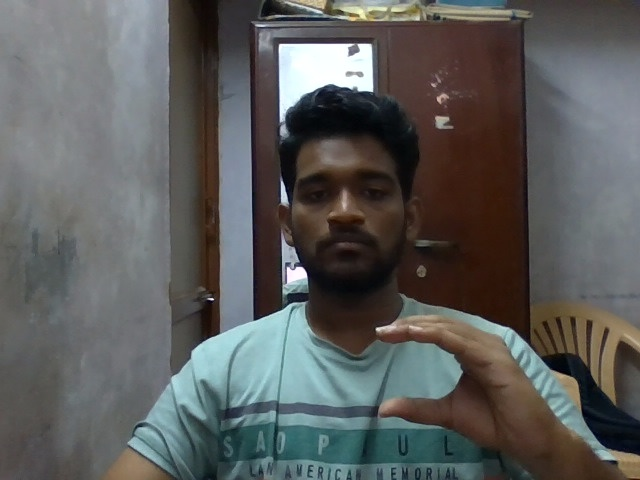C: (366, 310, 565, 467)
